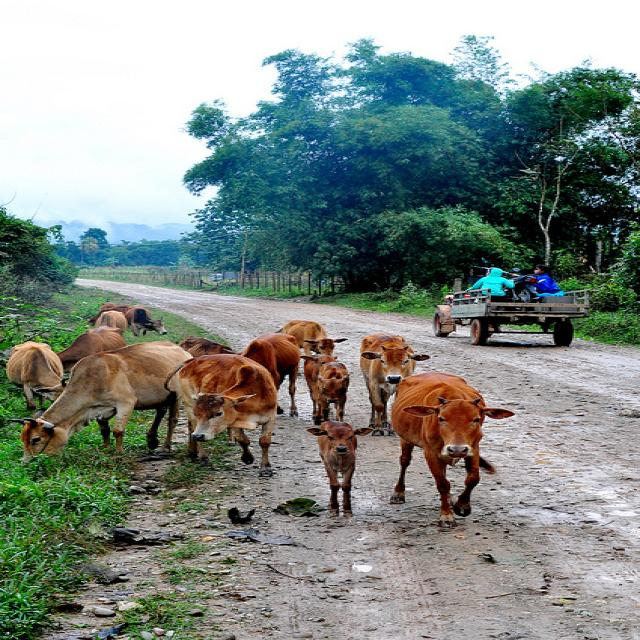Vehicle: (432, 287, 596, 347)
